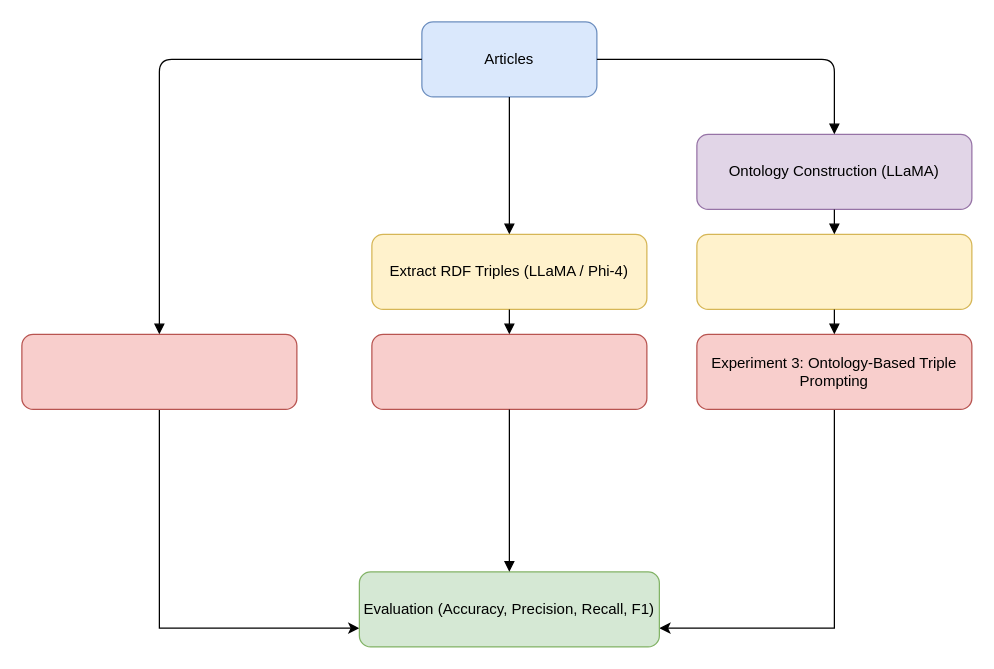
Image size: 994x669. Some labels were removed from this diagram. Here are the shapes that lost their labels. From the top down, the box of each, then its label:
(696, 233, 972, 309): Extract Refined Triples Aligned to Ontology
(21, 333, 297, 409): Experiment 1: Full Text Prompting
(371, 333, 647, 409): Experiment 2: Triple Prompting
